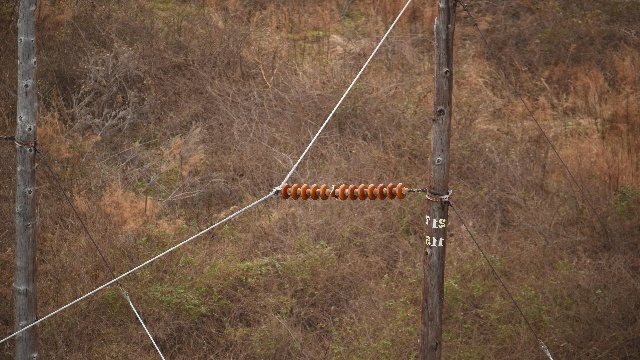broken_local: (329, 182, 339, 201)
insulator_unspecified: (281, 183, 407, 200)
